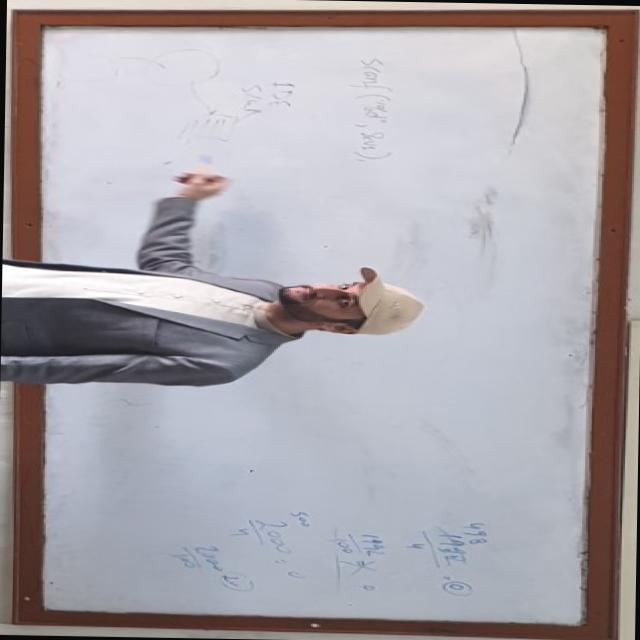Instructor: (0, 249, 440, 392)
White-board: (27, 18, 625, 634)
